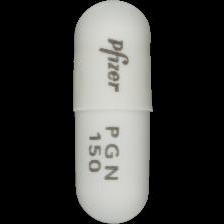68258-7047: (0, 0, 224, 224)
